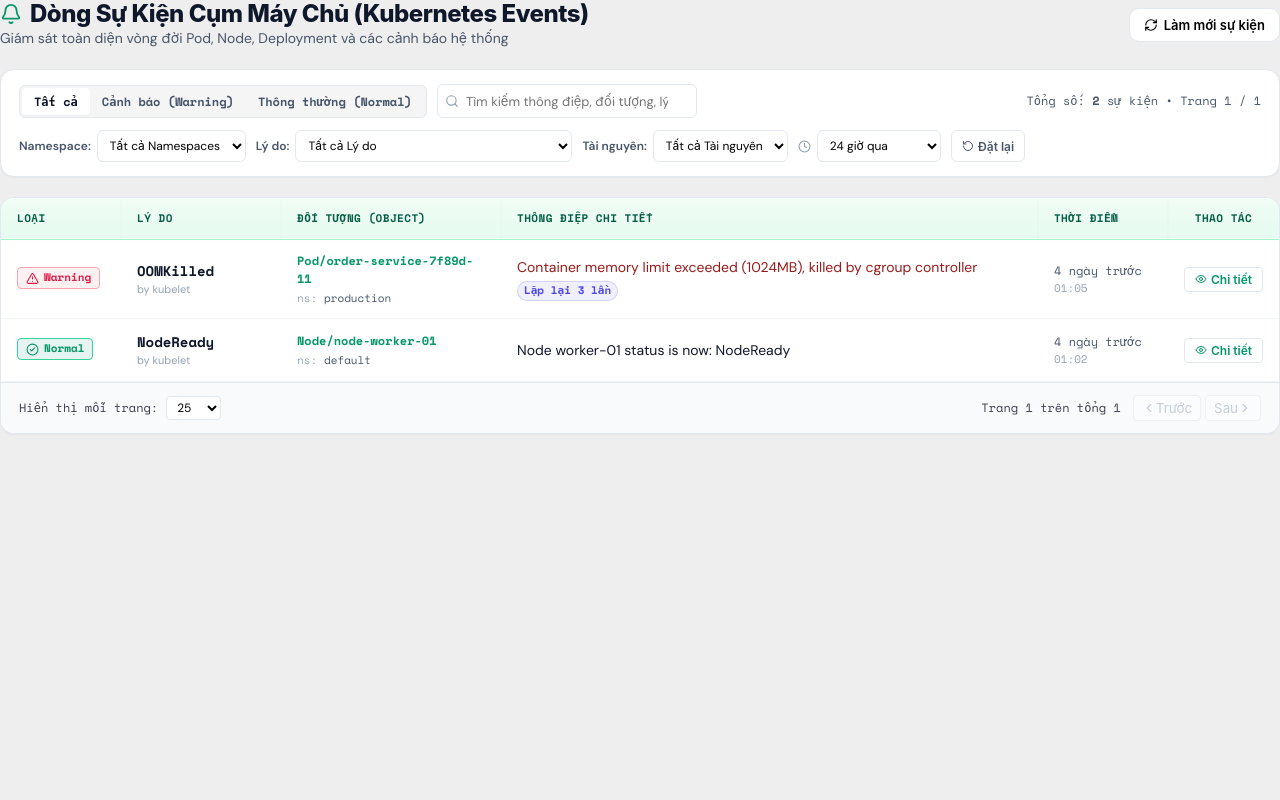
Task [S4][PB18] 4.1 – Kubernetes Events List & Filters UI Suite › 8. Event Detail Modal & Key Fields Rendering › 8.2. Displays all key fields: resource, namespace, count, timestamps, source and cluster
Click the button with test id "event-detail-btn-1" at [1223, 279], box 1184,266 -> 1263,292
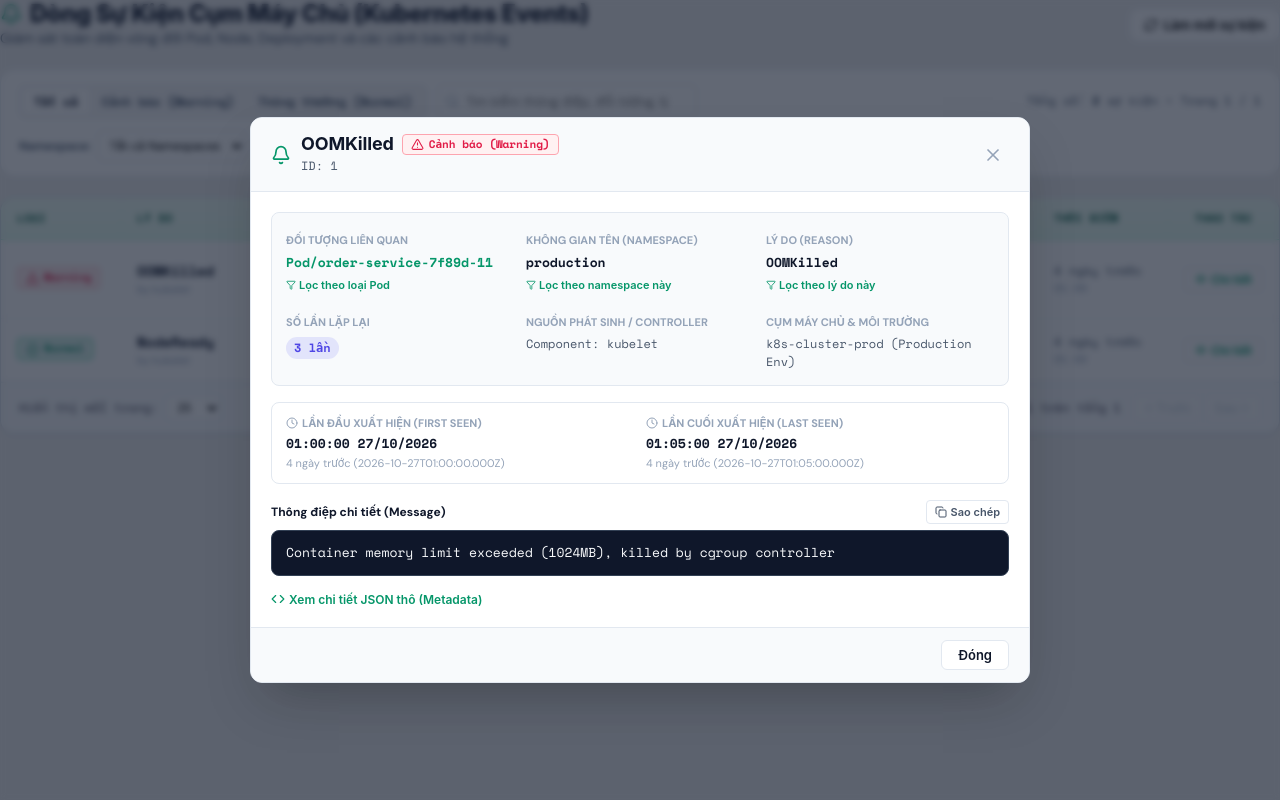
Expected: the text "Pod/order-service-7f89d-11" is shown, 286,253 -> 514,273
Expected: the text "production" is shown, 526,252 -> 606,272
Expected: the text with test id "event-detail-count" reads "3 lần", 286,337 -> 339,359
